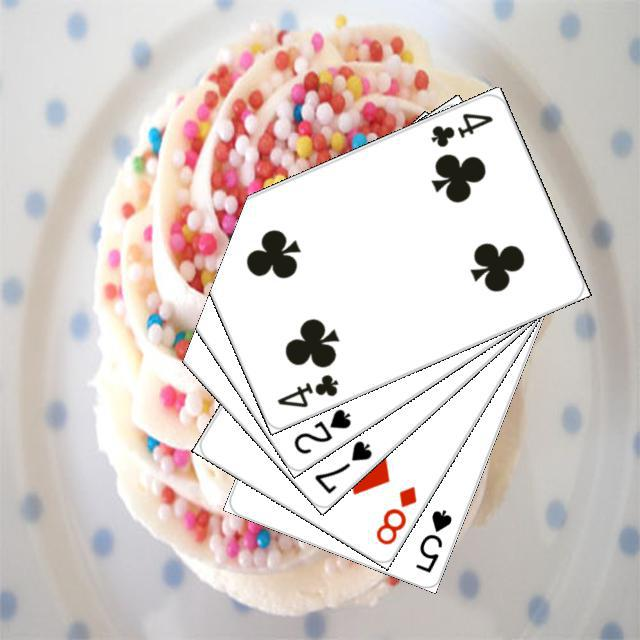2s: (288, 403, 353, 456)
4c: (426, 107, 495, 150), (272, 369, 341, 410)
5s: (410, 504, 454, 575)
7s: (309, 435, 374, 496)
8d: (370, 481, 419, 547)
